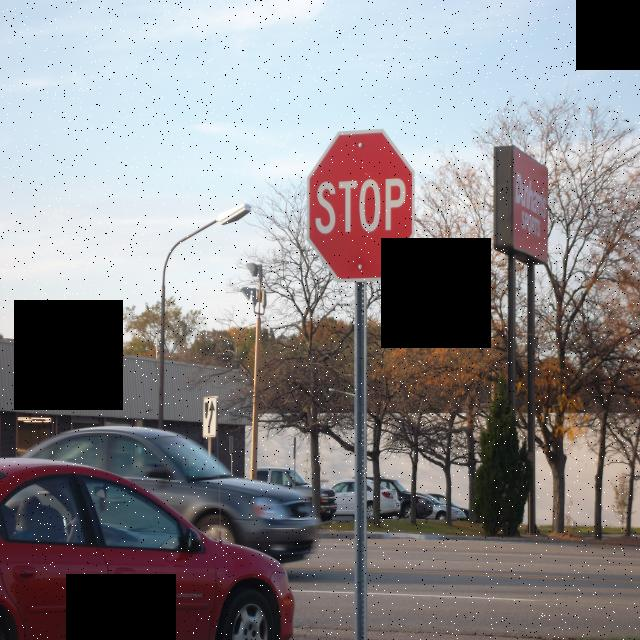regulatory: (198, 388, 222, 448)
stop: (299, 122, 424, 288)
